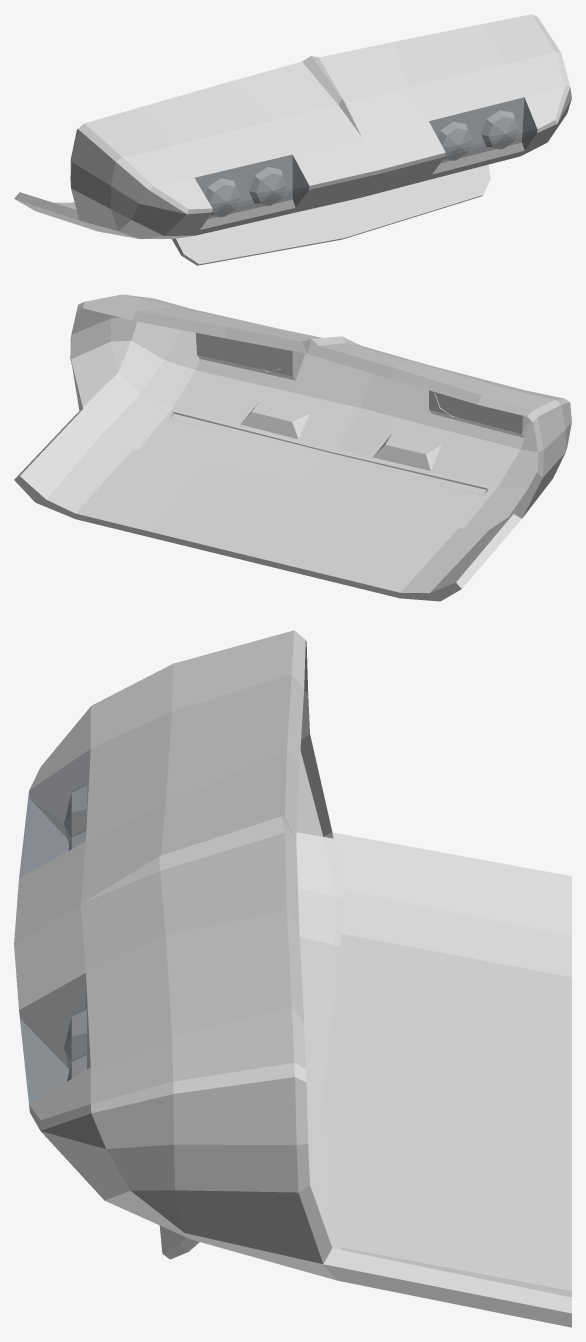
File: Muscle_01_Front_Bumper_03.glb
3 views of the same model, one above another, from view 1: azimuth 30°, elevation 25°; view 2: azimuth 150°, elevation 25°; view 3: azimuth 270°, elevation 25° (orthographic). The views are drawn at different scales.
Visible parts, largest first — view 1: SM_Veh_Muscle_01_Front_Bumper_03, SM_Veh_Muscle_01_Front_Bumper_03_Light_Covers; view 2: SM_Veh_Muscle_01_Front_Bumper_03; view 3: SM_Veh_Muscle_01_Front_Bumper_03, SM_Veh_Muscle_01_Front_Bumper_03_Light_Covers.
Part boxes in pixels (x1,y1,x2,y2): SM_Veh_Muscle_01_Front_Bumper_03: (14, 14, 571, 265); SM_Veh_Muscle_01_Front_Bumper_03_Light_Covers: (195, 97, 537, 229); SM_Veh_Muscle_01_Front_Bumper_03: (14, 294, 571, 601); SM_Veh_Muscle_01_Front_Bumper_03: (14, 630, 571, 1327); SM_Veh_Muscle_01_Front_Bumper_03_Light_Covers: (19, 749, 90, 1103).
Bounding box in the file's own units: 2 × 0.6733 × 1.03.
